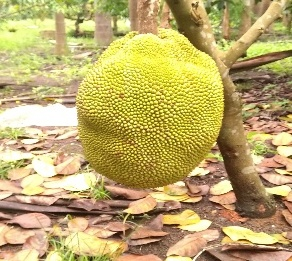Mit: (76, 31, 223, 185)
